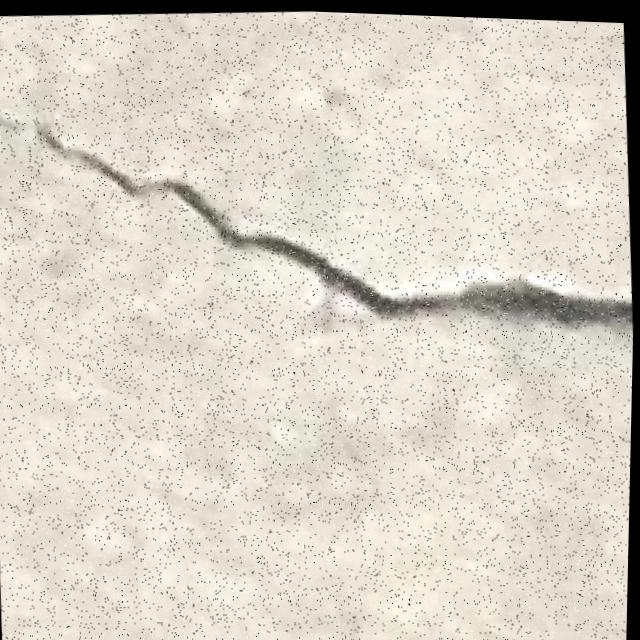Crack: (0, 67, 639, 379)
